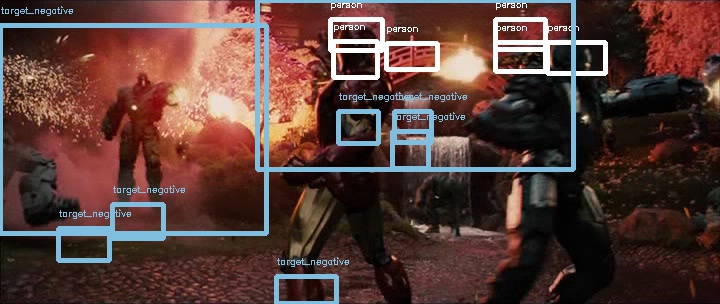person: (331, 23, 374, 75), (330, 23, 373, 75), (332, 23, 375, 75), (331, 22, 374, 74), (331, 24, 374, 76)
target_negative: (237, 56, 509, 113), (372, 155, 492, 219), (572, 202, 688, 240), (521, 197, 539, 251), (526, 298, 658, 301), (690, 254, 707, 272)
